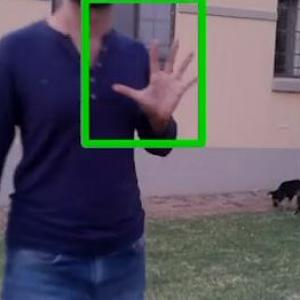follow_hand: (111, 32, 205, 127)
